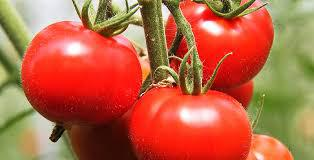tomato: (19, 21, 141, 129), (126, 80, 253, 155), (165, 1, 269, 84)
